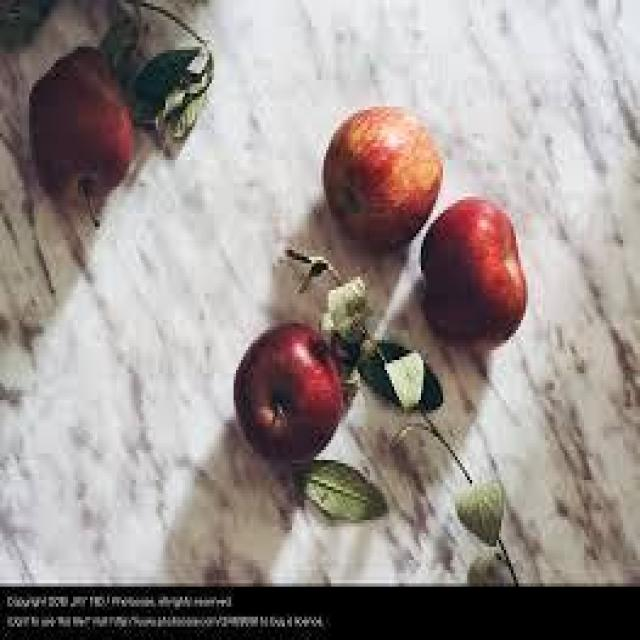maca: (321, 100, 443, 247), (231, 317, 346, 463)
